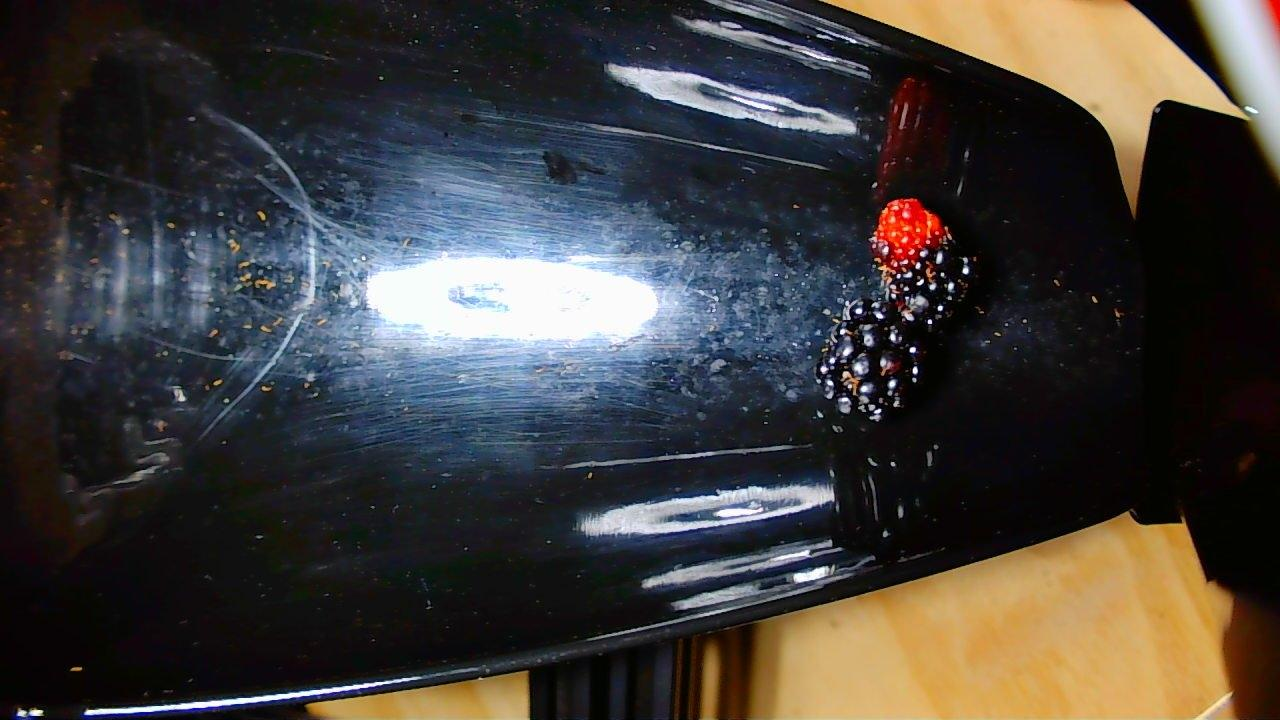berry: (814, 294, 924, 437), (870, 201, 976, 328)
